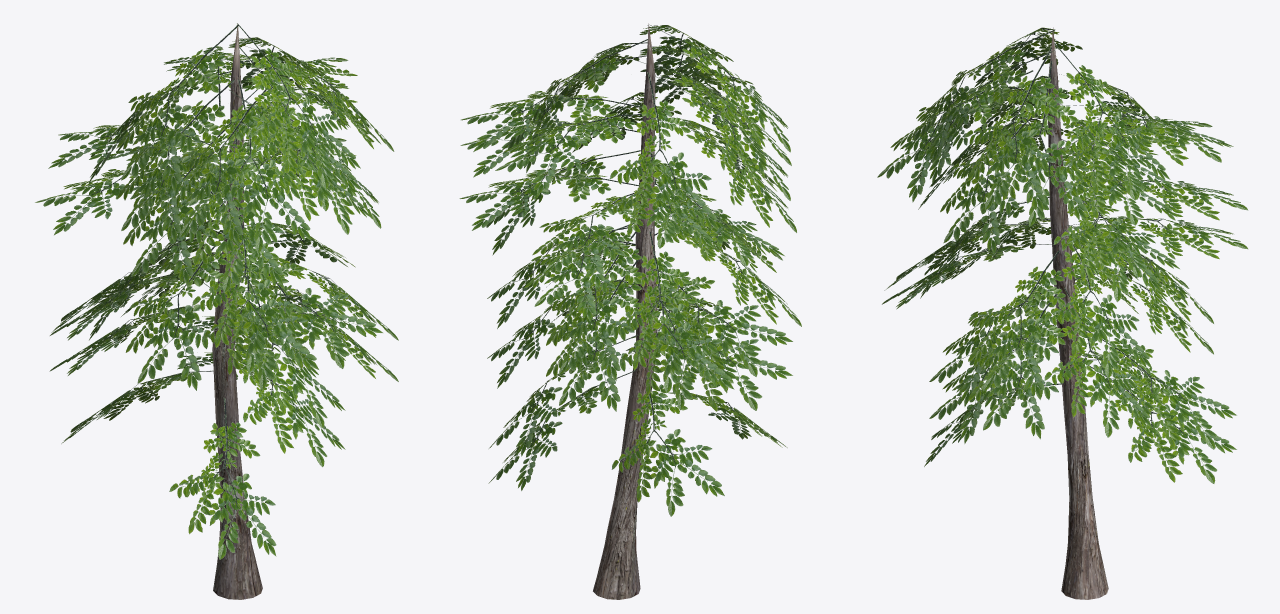
The model's file is Tree1.fbx.
The picture shows the model from 3 angles, left to right: view 1: azimuth 30°, elevation 25°; view 2: azimuth 150°, elevation 25°; view 3: azimuth 270°, elevation 25°; orthographic projection. The views are drawn at different scales.
Visible parts, largest first — view 1: Cylinder001, Plane660, Plane632, Plane633, Plane629, Plane656, Plane631, Plane641, Plane640, Plane628, Plane630, Plane638 (+23 smaller); view 2: Cylinder001, Plane624, Plane657, Plane625, Plane623, Plane620, Plane626, Plane621, Plane643, Plane647, Plane617, Plane619 (+25 smaller); view 3: Cylinder001, Plane637, Plane652, Plane649, Plane659, Plane650, Plane635, Plane636, Plane651, Plane658, Plane634, Plane655 (+23 smaller).
Boxes of the visible parts, bbox=[...] form: Cylinder001: bbox=[212, 23, 262, 599]; Plane660: bbox=[169, 397, 276, 559]; Plane632: bbox=[117, 24, 238, 192]; Plane633: bbox=[237, 23, 360, 189]; Plane629: bbox=[125, 234, 227, 390]; Plane656: bbox=[167, 80, 273, 245]; Plane631: bbox=[203, 244, 318, 390]; Plane641: bbox=[117, 80, 234, 243]; Plane640: bbox=[198, 79, 311, 253]; Plane628: bbox=[192, 208, 298, 372]; Plane630: bbox=[246, 253, 382, 368]; Plane638: bbox=[179, 124, 283, 292]; Cylinder001: bbox=[593, 23, 657, 599]; Plane624: bbox=[609, 72, 718, 242]; Plane657: bbox=[611, 375, 724, 516]; Plane625: bbox=[546, 226, 642, 380]; Plane623: bbox=[621, 256, 734, 410]; Plane620: bbox=[612, 231, 718, 393]; Plane626: bbox=[661, 271, 792, 377]; Plane621: bbox=[546, 260, 641, 411]; Plane643: bbox=[532, 189, 644, 288]; Plane647: bbox=[495, 113, 653, 195]; Plane617: bbox=[524, 223, 634, 321]; Plane619: bbox=[605, 152, 714, 248]; Cylinder001: bbox=[1048, 27, 1108, 599]; Plane637: bbox=[964, 47, 1057, 212]; Plane652: bbox=[968, 250, 1065, 399]; Plane649: bbox=[1044, 229, 1152, 378]; Plane659: bbox=[1087, 330, 1236, 449]; Plane650: bbox=[1044, 288, 1152, 437]; Plane635: bbox=[988, 61, 1089, 226]; Plane636: bbox=[1054, 43, 1170, 199]; Plane651: bbox=[968, 288, 1065, 439]; Plane658: bbox=[1088, 365, 1236, 483]; Plane634: bbox=[940, 109, 1041, 254]; Plane655: bbox=[877, 70, 1033, 202].
Size of the model in its own units: 388 by 570 by 384.
Materials: 2 (2 with a texture image).
